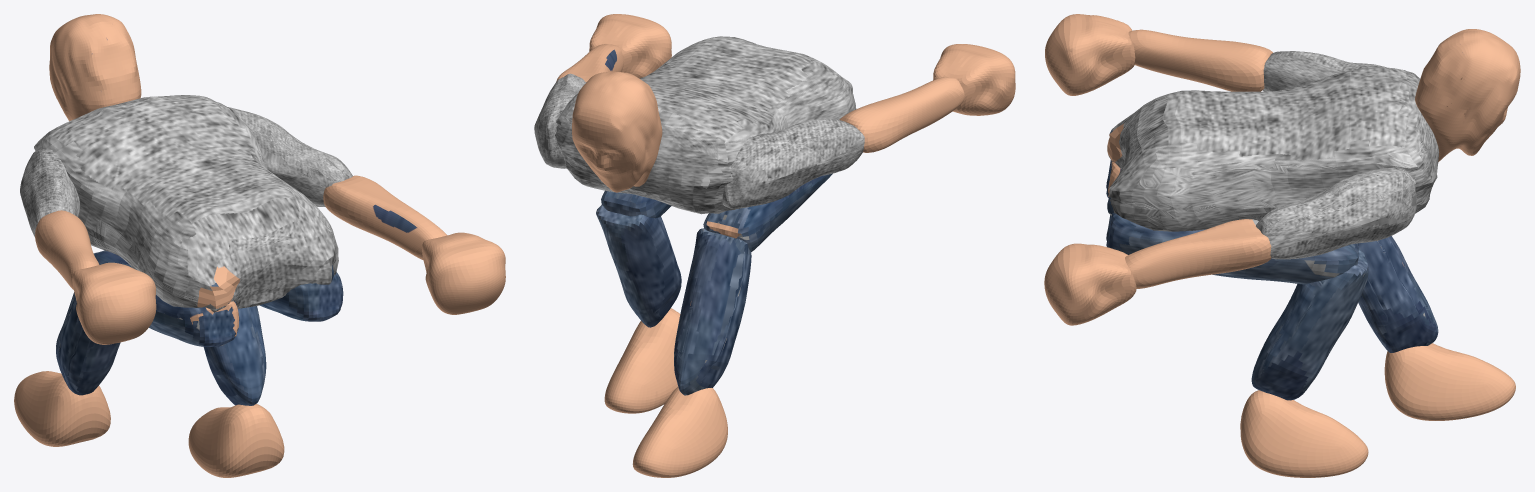
The model's file is mainCharacter.obj.
3 renders of one model, left to right at view 1: azimuth 30°, elevation 25°; view 2: azimuth 150°, elevation 25°; view 3: azimuth 270°, elevation 25°, orthographic. The views are drawn at different scales.
Visible parts, largest first — view 1: Cube.007, Cube.016, Cube.005_Cube.020, Cube.011_Cube.024, Cube.009_Cube.023, Cube.003_Cube.019, Cube.015, Cube.010, Cube.002_Cube.018, Cube.001, Cube.004, Cube.006_Cube.021 (+2 smaller); view 2: Cube.007, Cube.004, Cube.016, Cube.006_Cube.021, Cube.002_Cube.018, Cube.003_Cube.019, Cube.005_Cube.020, Cube.008_Cube.022, Cube.011_Cube.024, Cube.009_Cube.023, Cube.001, Cube.010 (+2 smaller); view 3: Cube.007, Cube.016, Cube.010, Cube.002_Cube.018, Cube.005_Cube.020, Cube.003_Cube.019, Cube.015, Cube.004, Cube.008_Cube.022, Cube.011_Cube.024, Cube.009_Cube.023, Cube.001_Cube.017 (+1 smaller).
Boxes of the visible parts, x1,y1,x2,y2 form: Cube.007: (34,95,338,312); Cube.016: (49,14,141,121); Cube.005_Cube.020: (188,404,284,477); Cube.011_Cube.024: (72,262,156,344); Cube.009_Cube.023: (422,232,505,314); Cube.003_Cube.019: (14,371,110,446); Cube.015: (323,175,447,260); Cube.010: (228,107,352,206); Cube.002_Cube.018: (203,306,266,405); Cube.001: (93,250,239,346); Cube.004: (56,292,120,395); Cube.006_Cube.021: (20,149,80,236); Cube.007: (555,36,856,214); Cube.004: (674,228,751,395); Cube.016: (572,71,662,192); Cube.006_Cube.021: (722,119,864,209); Cube.002_Cube.018: (596,205,681,327); Cube.003_Cube.019: (632,387,727,477); Cube.005_Cube.020: (604,308,680,413); Cube.008_Cube.022: (839,77,964,152); Cube.011_Cube.024: (933,44,1015,115); Cube.009_Cube.023: (589,14,671,78); Cube.001: (703,173,832,251); Cube.010: (534,73,585,168); Cube.007: (1107,67,1439,231); Cube.016: (1415,29,1520,161); Cube.010: (1256,167,1416,259); Cube.002_Cube.018: (1251,249,1368,400); Cube.005_Cube.020: (1240,390,1368,477); Cube.003_Cube.019: (1384,343,1515,420); Cube.015: (1125,219,1271,288); Cube.004: (1358,236,1438,352); Cube.008_Cube.022: (1128,29,1272,91); Cube.011_Cube.024: (1045,14,1135,95); Cube.009_Cube.023: (1044,243,1136,325); Cube.001_Cube.017: (1106,213,1358,284).
Bounding box in the file's own units: 1.16 × 1.05 × 1.11.
3 materials, 3 textured.
